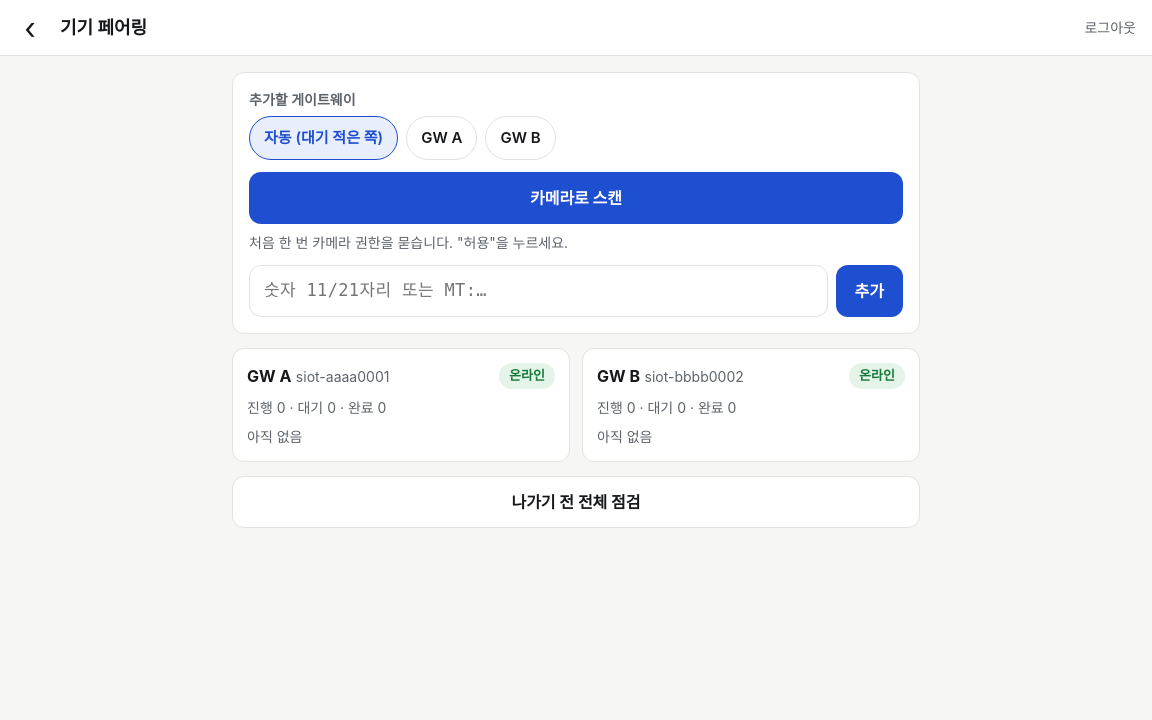
페어링 큐 (GW 별 직렬·GW 끼리 병렬, E2) › 연속 입력하면 대기 적은 GW 로 나눠 넣고 두 GW 진행을 동시에 보여준다
Expected: the element named "GW A 대기열" is shown, [232, 348, 570, 462]
Type "3497-011-2332" into the field named "기기 코드".
click(538, 291); type("3497-011-2332")  # box [249, 265, 828, 317]
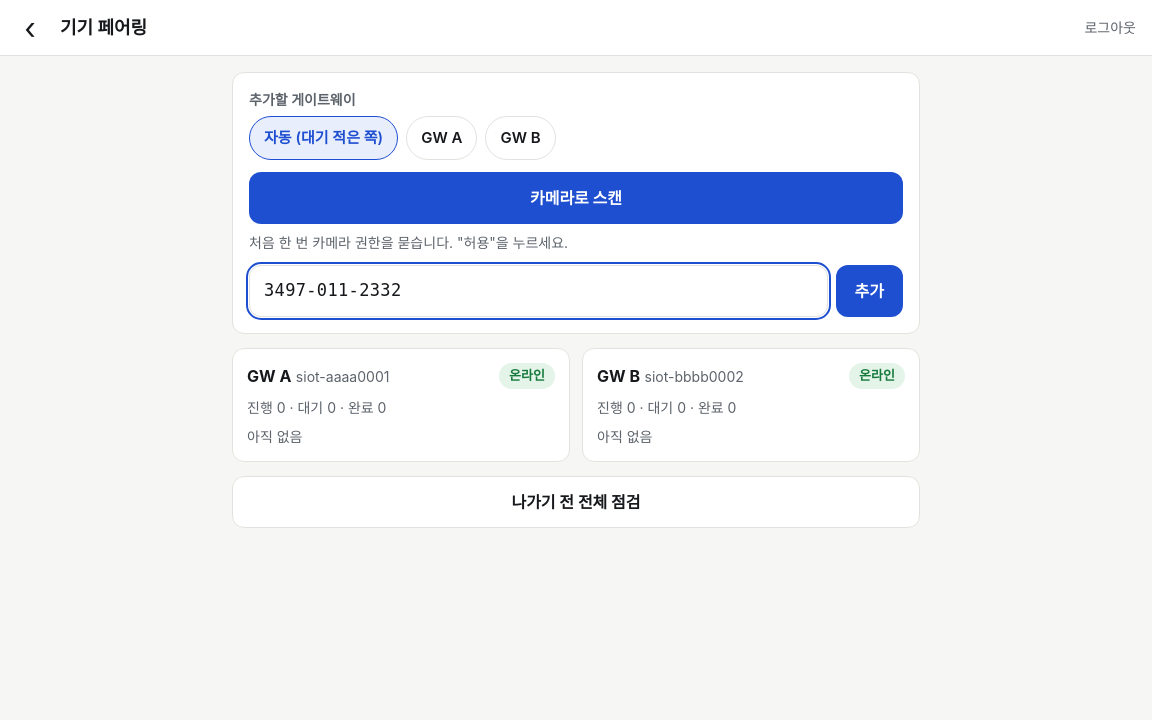
Click the button "추가".
click(869, 291)  # box [836, 265, 903, 317]
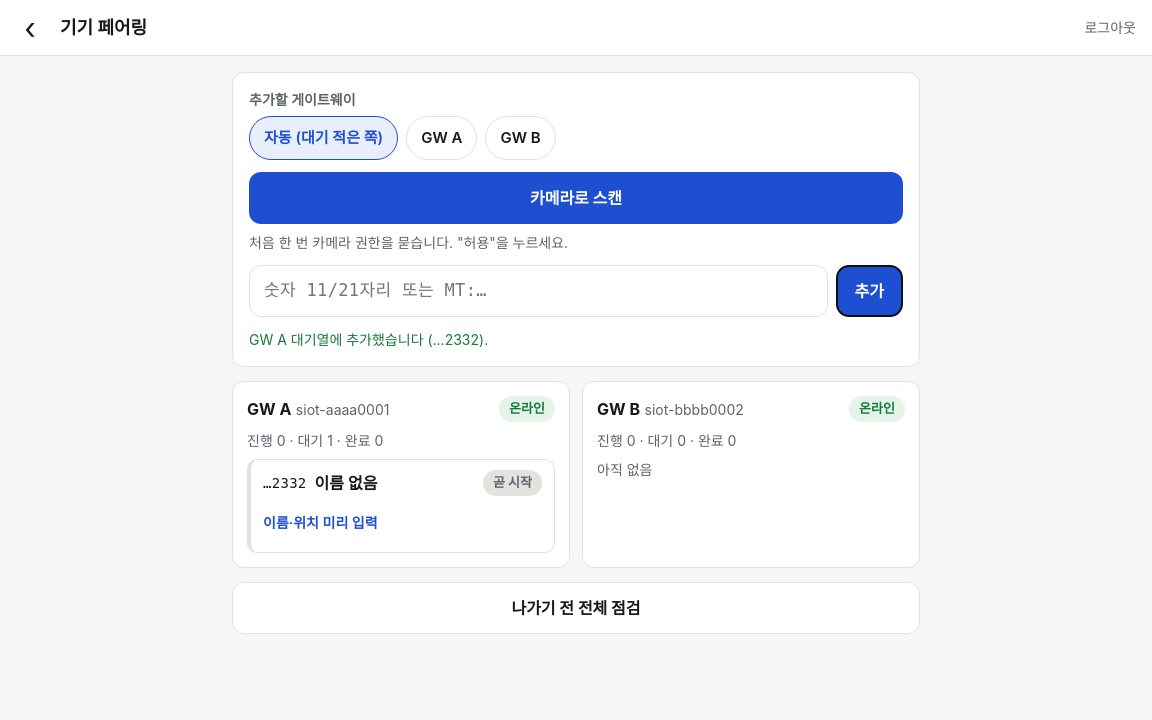
Expected: the text "GW A 대기열에 추가했습니다 (…2332)." is shown, [249, 331, 488, 348]
Type "749701123365521327694" into the field named "기기 코드".
click(538, 291); type("749701123365521327694")  # box [249, 265, 828, 317]
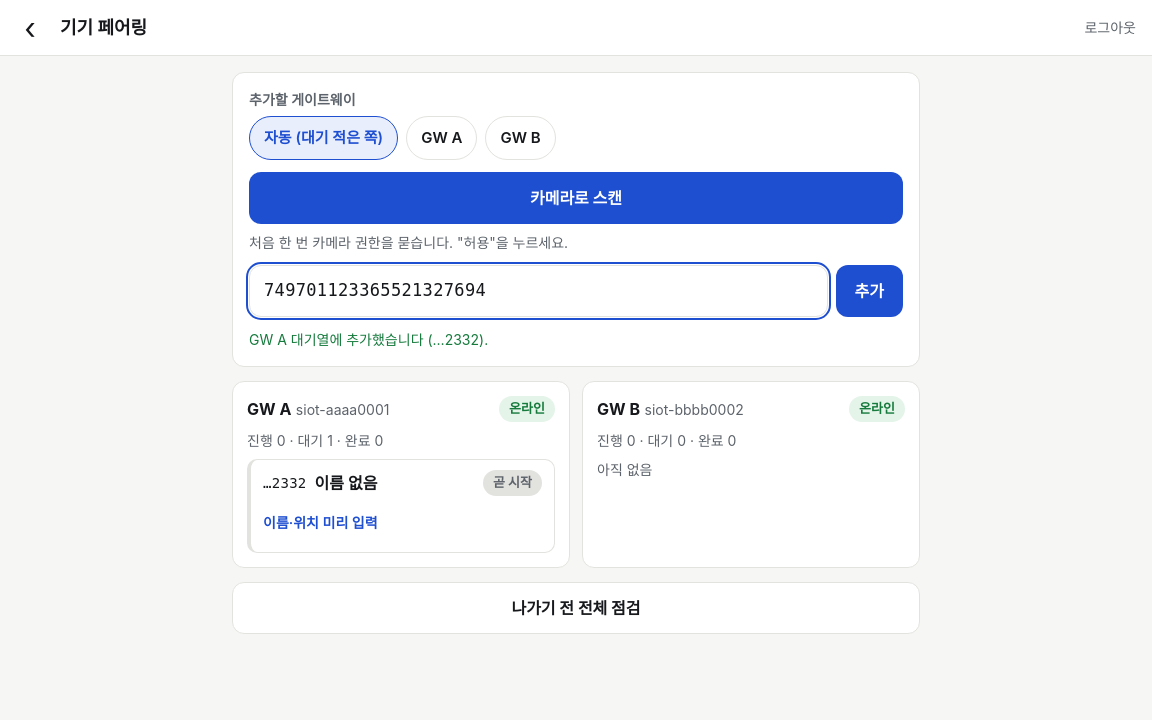
Click the button "추가".
click(869, 291)  # box [836, 265, 903, 317]
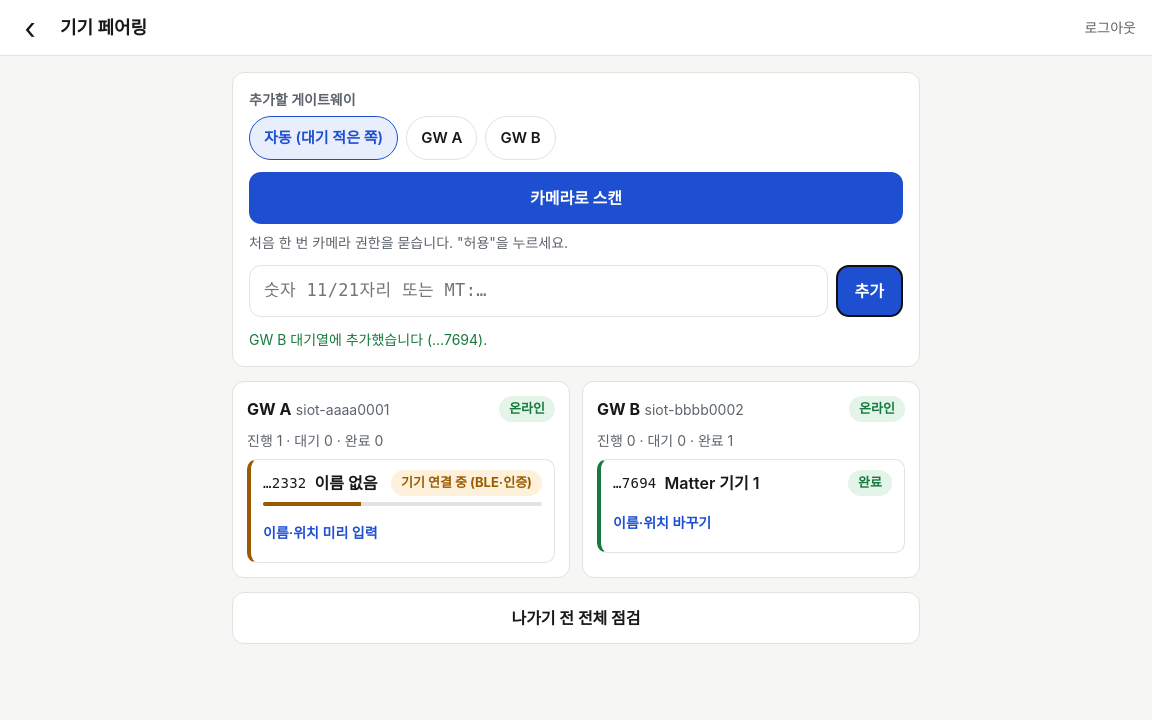
Expected: the text "GW B 대기열에 추가했습니다 (…7694)." is shown, [249, 331, 487, 348]
Expected: the text "완료" is shown, [848, 470, 892, 496]
Expected: the text "기기 연결 중 (BLE·인증)" is shown, [391, 470, 542, 496]
